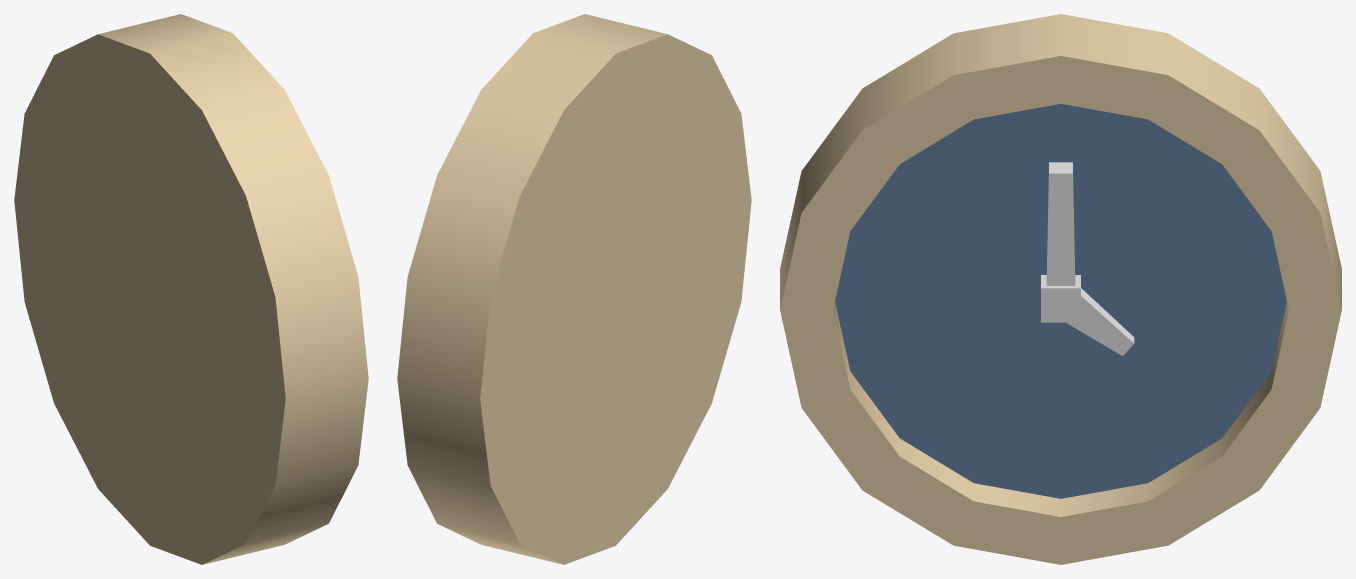
File: clock.fbx
The picture shows the model from 3 angles, left to right: view 1: azimuth 30°, elevation 25°; view 2: azimuth 150°, elevation 25°; view 3: azimuth 270°, elevation 25°; orthographic projection. The views are drawn at different scales.
Visible parts, largest first — view 1: Cube.007; view 2: Cube.007; view 3: Cube.007.
Part boxes in pixels (box(x1,y1,x2,y2)): Cube.007: box(14, 14, 368, 564); Cube.007: box(397, 14, 751, 564); Cube.007: box(780, 14, 1341, 564).
Bounding box in the file's own units: 87.13 × 87.13 × 15.37.
